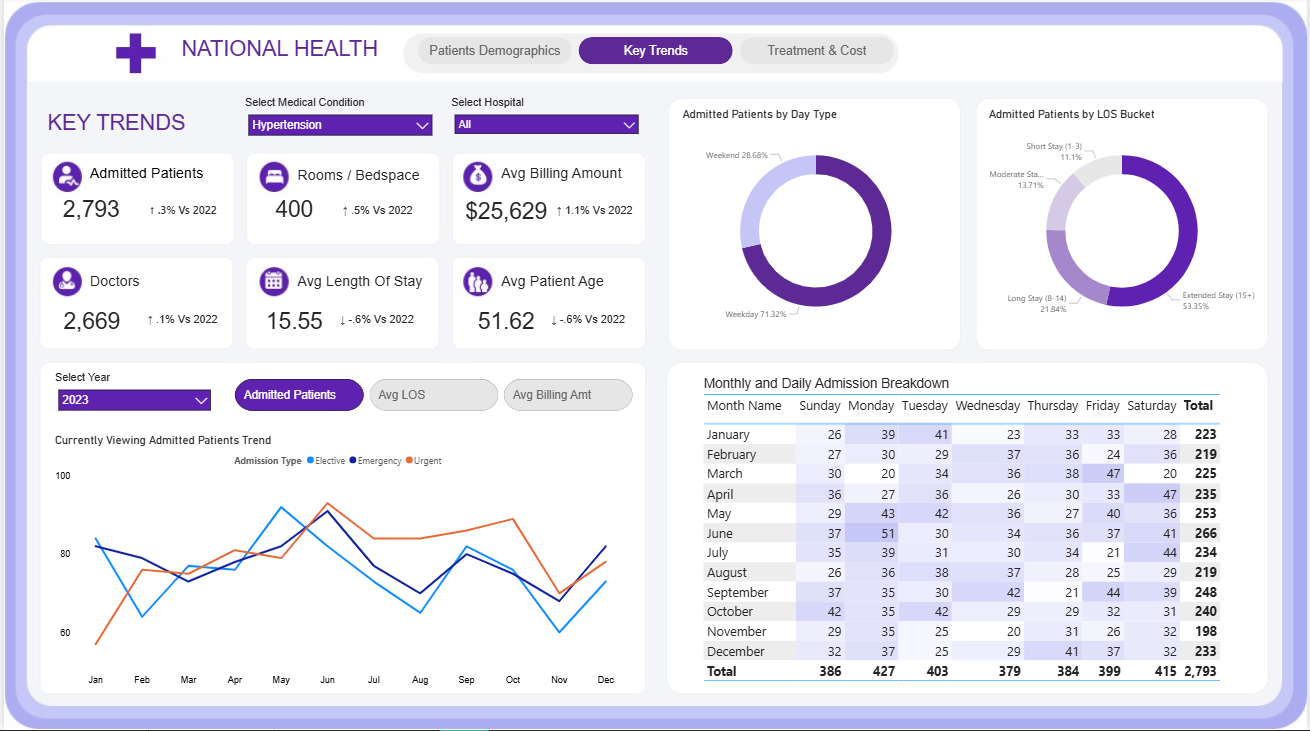

This screenshot's page, from the dashboard's own definition file:
{"tool":"powerbi","page":{"name":"Key Trends","canvas":[1920,1080],"ordinal":1},"visuals":[{"type":"card","fields":{"Values":["DAX.Admitted Patients"]},"box":[39.1,279.4,179.7,64.5],"z":0},{"type":"textbox","box":[121.1,242.2,193.4,56.7],"z":1000},{"type":"textbox","box":[427.8,244.2,193.4,56.7],"z":2000},{"type":"textbox","box":[121.1,400.5,193.4,56],"z":3000},{"type":"textbox","box":[427,401.2,209.8,55.2],"z":4000},{"type":"textbox","box":[726.7,400.5,193.4,56],"z":5000},{"type":"textbox","box":[726.7,242.2,208,56],"z":6000},{"type":"card","fields":{"Values":["DAX.Doctors"]},"box":[39.1,443.5,181.7,64.5],"z":7000},{"type":"card","fields":{"Values":["DAX.Avg LOS"]},"box":[336,443.5,181.7,64.5],"z":8000},{"type":"card","fields":{"Values":["DAX.Rooms"]},"box":[336,279.4,181.7,64.5],"z":9000},{"type":"card","fields":{"Values":["DAX.Avg Billing Amt"]},"box":[650.6,281.3,179.7,64.5],"z":10000},{"type":"card","fields":{"Values":["DAX.Average age"]},"box":[650.6,443.5,179.7,64.5],"z":11000},{"type":"card","fields":{"Values":["DAX.Adm YoY"]},"box":[191.4,292.6,145.4,46],"z":12000},{"type":"card","fields":{"Values":["DAX.LOS YoY"]},"box":[476.7,453.2,145,46],"z":13000},{"type":"card","fields":{"Values":["DAX.Doc YoY"]},"box":[191.4,452.8,143.6,46],"z":14000},{"type":"card","fields":{"Values":["DAX.Room YoY"]},"box":[476.7,292.6,147.2,46],"z":15000},{"type":"card","fields":{"Values":["DAX.Bill YoY"]},"box":[795.1,292.6,149.1,46],"z":16000},{"type":"card","fields":{"Values":["DAX.Age YoY"]},"box":[787.3,453.2,145,46],"z":17000},{"type":"textbox","box":[58.9,162,277.9,47.9],"z":18000},{"type":"pageNavigator","box":[609.2,58.9,701.2,40],"z":19000},{"type":"textbox","box":[242.9,53.4,325.8,47.9],"z":20000},{"type":"advancedSlicerVisual","fields":{"Values":["KPI.KPI"]},"box":[335,557.7,596.3,57.1],"z":21000},{"type":"lineChart","fields":{"Y":["DAX.Admitted Patients"],"Category":["Calendar.Month Short"],"Series":["HealthData.Admission Type"]},"box":[69.9,642.3,848.5,381],"z":22000},{"type":"slicer","title":"Select Year","fields":{"Values":["Calendar.Year"]},"box":[69.9,550.3,244.8,64.4],"z":23000},{"type":"donutChart","fields":{"Y":["DAX.Admitted Patients"],"Category":["Calendar.Day Type"]},"box":[993.9,162,403.1,346],"z":24000},{"type":"donutChart","fields":{"Y":["DAX.Admitted Patients"],"Category":["HealthData.LOS Bucket"]},"box":[1444.8,162,403.1,346],"z":25000},{"type":"pivotTable","title":"Monthly and Daily Admission Breakdown","fields":{"Rows":["Calendar.Month Name"],"Columns":["Calendar.Week"],"Values":["DAX.Admitted Patients"]},"box":[1025.2,557.7,787.7,465.6],"z":26000},{"type":"slicer","title":"Select Hospital","fields":{"Values":["HealthData.Hospital"]},"box":[653.4,145.4,290.8,73.6],"z":27000},{"type":"slicer","title":"Select Medical Condition","fields":{"Values":["DimCondition.Medical Condition"]},"box":[349.7,145.4,290.8,73.6],"z":28000}]}

Visuals, with their boxes in screenshot pixels (x1, y1, x2, y2), scaled from the page's 1920x1080 canvas onto the 1310x731 screenshot:
card - DAX.Admitted Patients: 27, 189, 149, 233
textbox: 83, 164, 215, 202
textbox: 292, 165, 424, 204
textbox: 83, 271, 215, 309
textbox: 291, 272, 434, 309
textbox: 496, 271, 628, 309
textbox: 496, 164, 638, 202
card - DAX.Doctors: 27, 300, 151, 344
card - DAX.Avg LOS: 229, 300, 353, 344
card - DAX.Rooms: 229, 189, 353, 233
card - DAX.Avg Billing Amt: 444, 190, 567, 234
card - DAX.Average age: 444, 300, 567, 344
card - DAX.Adm YoY: 131, 198, 230, 229
card - DAX.LOS YoY: 325, 307, 424, 338
card - DAX.Doc YoY: 131, 306, 229, 338
card - DAX.Room YoY: 325, 198, 426, 229
card - DAX.Bill YoY: 542, 198, 644, 229
card - DAX.Age YoY: 537, 307, 636, 338
textbox: 40, 110, 230, 142
pageNavigator: 416, 40, 894, 67
textbox: 166, 36, 388, 69
advancedSlicerVisual - KPI.KPI: 229, 377, 635, 416
lineChart - DAX.Admitted Patients x Calendar.Month Short: 48, 435, 627, 693
"Select Year" slicer: 48, 372, 215, 416
donutChart - DAX.Admitted Patients x Calendar.Day Type: 678, 110, 953, 344
donutChart - DAX.Admitted Patients x HealthData.LOS Bucket: 986, 110, 1261, 344
"Monthly and Daily Admission Breakdown" pivotTable: 699, 377, 1237, 693
"Select Hospital" slicer: 446, 98, 644, 148
"Select Medical Condition" slicer: 239, 98, 437, 148
